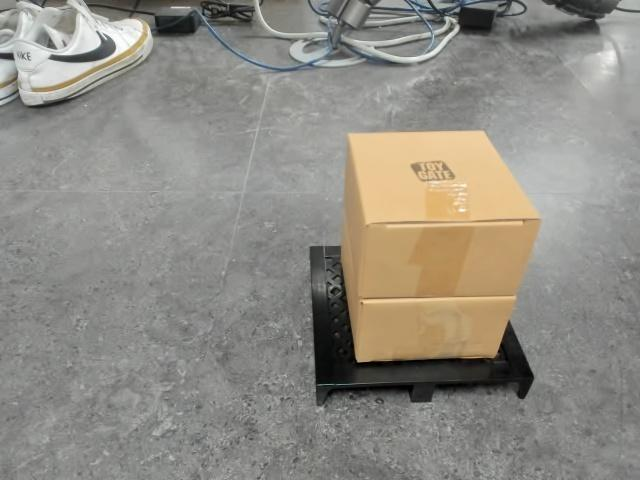box: (311, 129, 542, 407)
